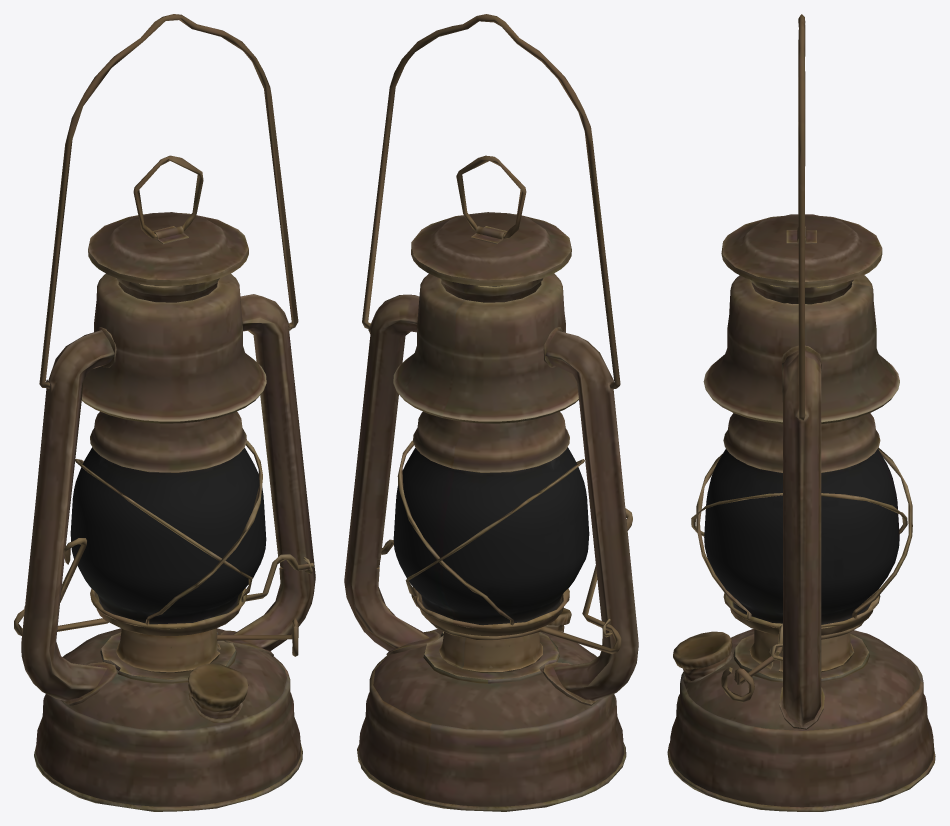
Rendered from Lantern_01.glb.
3 renders of one model, left to right at view 1: azimuth 30°, elevation 25°; view 2: azimuth 150°, elevation 25°; view 3: azimuth 270°, elevation 25°, orthographic.
Visible parts, largest first — view 1: Lantern_01, Lantern_01_glass; view 2: Lantern_01, Lantern_01_glass; view 3: Lantern_01, Lantern_01_glass.
Boxes of the visible parts, box(x1,y1,x2,y2) form: Lantern_01: box(14, 14, 315, 811); Lantern_01_glass: box(70, 447, 266, 624); Lantern_01: box(344, 14, 638, 811); Lantern_01_glass: box(393, 447, 589, 625); Lantern_01: box(667, 14, 935, 811); Lantern_01_glass: box(704, 449, 899, 624).
Size of the model in its own units: 0.1219 by 0.2939 by 0.0967.
Materials: 2 (2 with a texture image).
